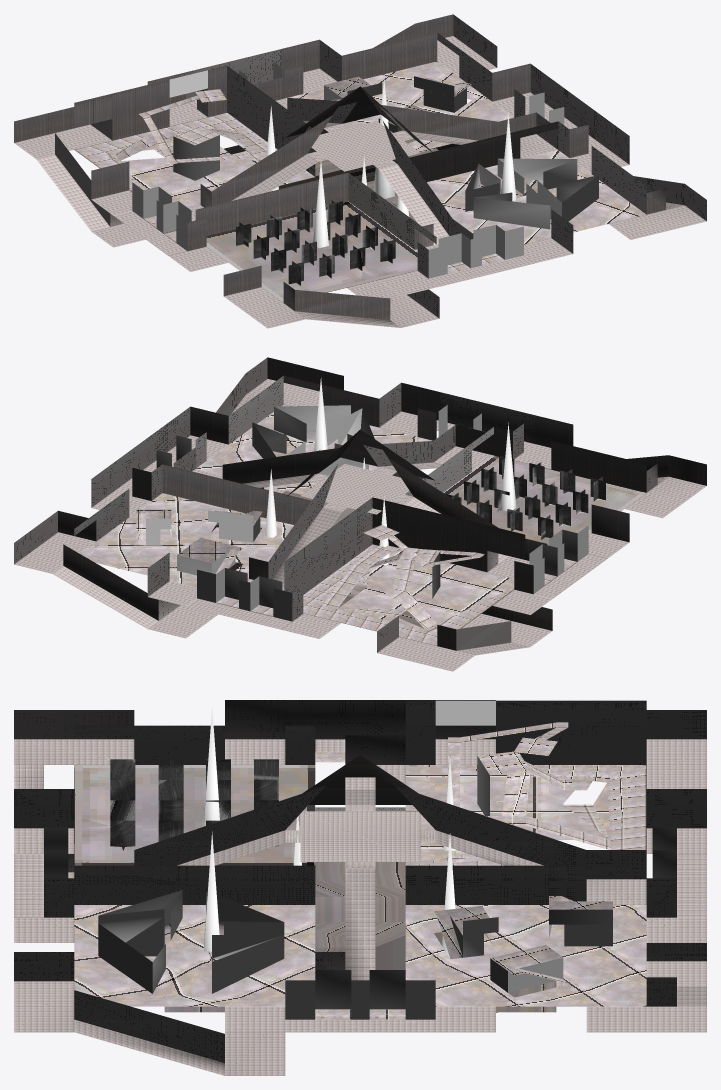
The model's file is citadel.glb.
3 renders of one model, top to bottom at view 1: azimuth 30°, elevation 25°; view 2: azimuth 150°, elevation 25°; view 3: azimuth 270°, elevation 25°, orthographic. The views are drawn at different scales.
Parts seen in each view (by area): view 1: primary_Room0A; view 2: primary_Room0A; view 3: primary_Room0A.
Part boxes in pixels (x1=…): primary_Room0A: x1=14, y1=14, x2=706, y2=328; primary_Room0A: x1=14, y1=357, x2=706, y2=671; primary_Room0A: x1=14, y1=700, x2=706, y2=1075.
Size of the model in its own units: 76.74 by 27.57 by 76.74.
Materials: 5 (4 with a texture image).
